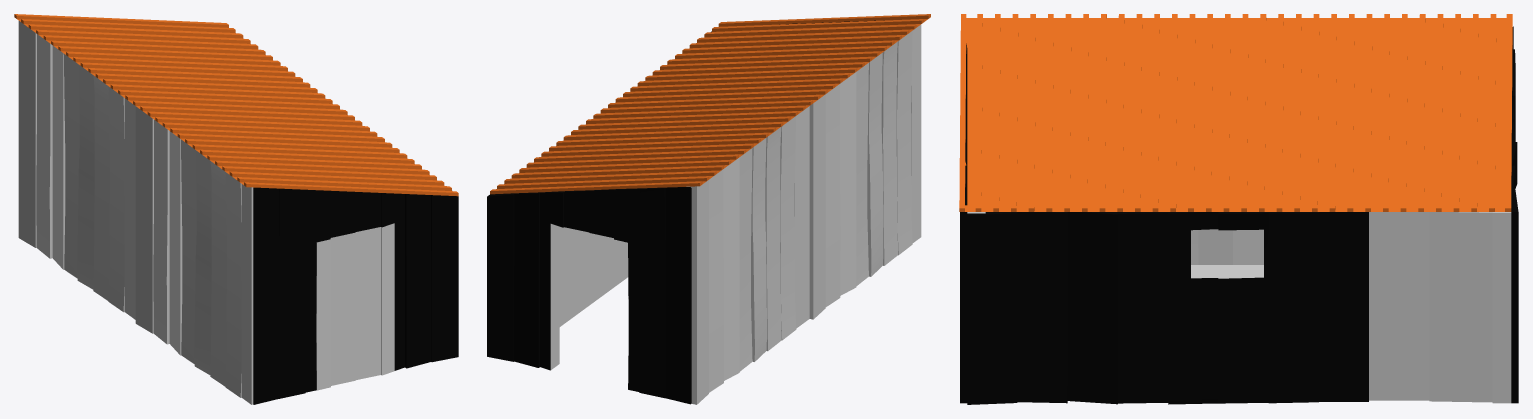
File: Poulailler.fbx
3 renders of one model, left to right at view 1: azimuth 30°, elevation 25°; view 2: azimuth 150°, elevation 25°; view 3: azimuth 270°, elevation 25°, orthographic. The views are drawn at different scales.
Parts seen in each view (by area): view 1: Poulailler; view 2: Poulailler; view 3: Poulailler.
Boxes of the visible parts, box(x1,y1,x2,y2) form: Poulailler: box(14, 14, 458, 404); Poulailler: box(487, 14, 930, 404); Poulailler: box(959, 14, 1518, 404).
Size of the model in its own units: 439 by 440 by 835.
